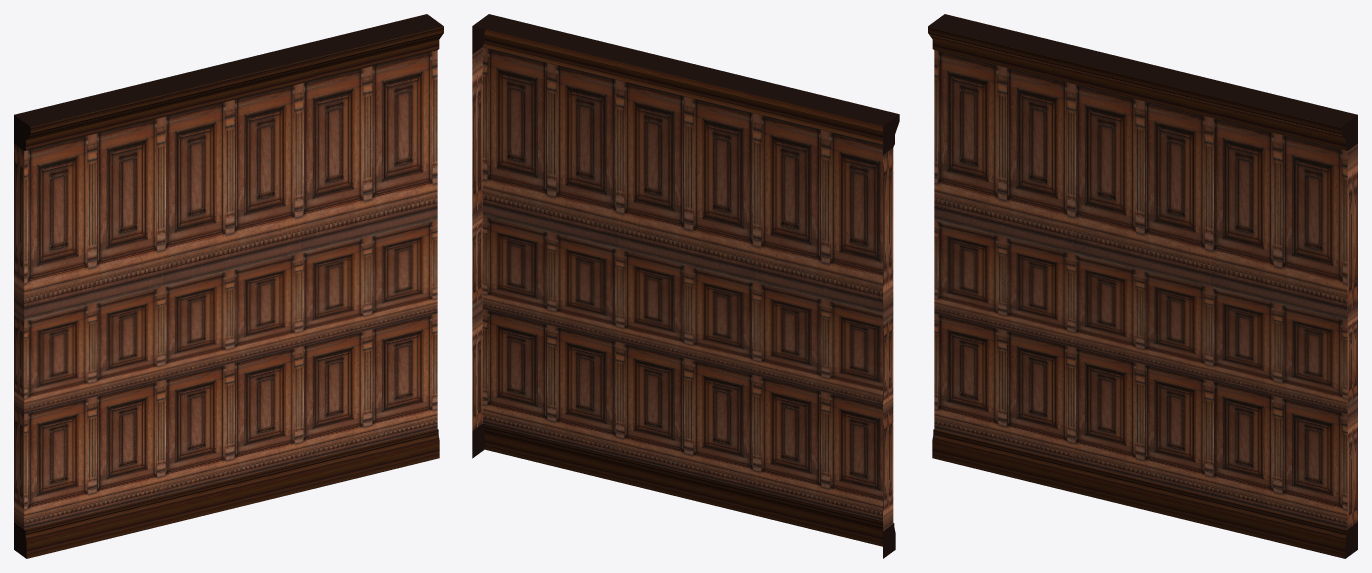
The model's file is WoodPanelwallMed.fbx.
The picture shows the model from 3 angles, left to right: view 1: azimuth 30°, elevation 25°; view 2: azimuth 150°, elevation 25°; view 3: azimuth 330°, elevation 25°; orthographic projection.
Parts seen in each view (by area): view 1: WallSmoothLong.004; view 2: WallSmoothLong.004; view 3: WallSmoothLong.004.
Part boxes in pixels (box(x1,y1,x2,y2)): WallSmoothLong.004: box(14, 14, 443, 558); WallSmoothLong.004: box(472, 14, 899, 558); WallSmoothLong.004: box(928, 14, 1357, 558).
Bounding box in the file's own units: 369 × 371 × 25.9.
